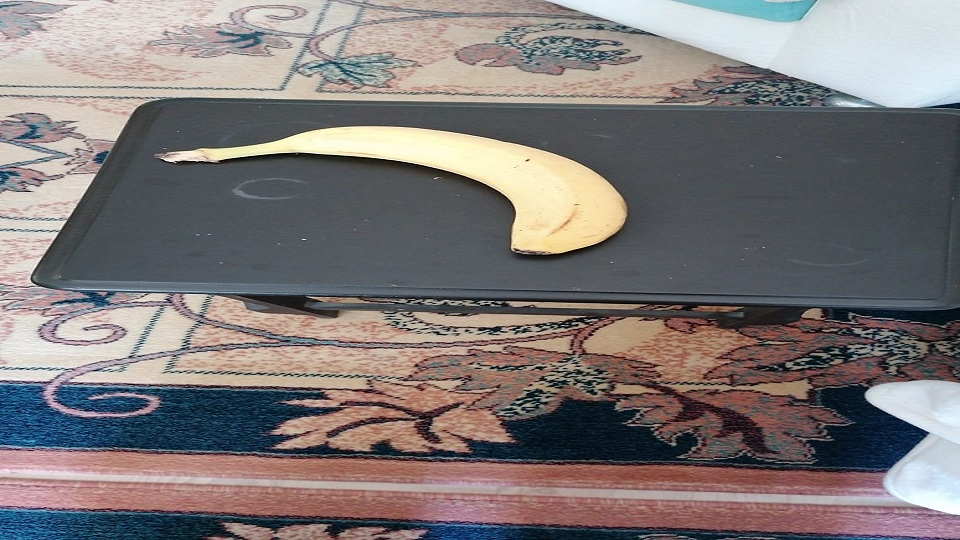muz: (159, 123, 629, 260)
